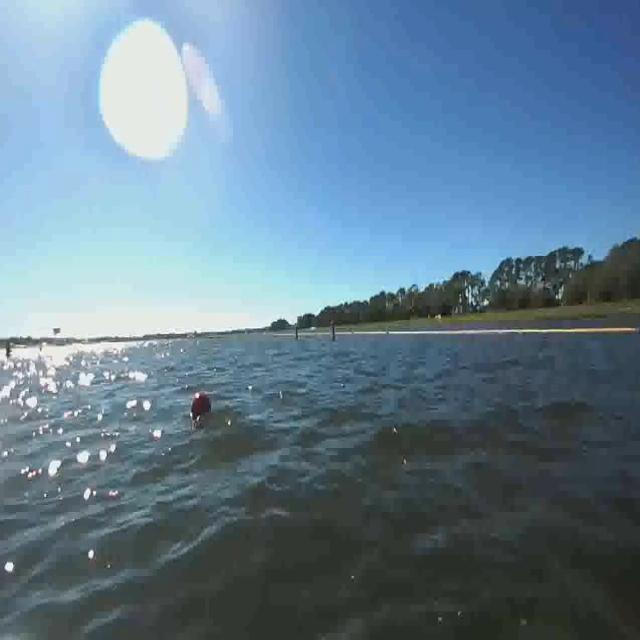red-buoy: (191, 386, 217, 426)
